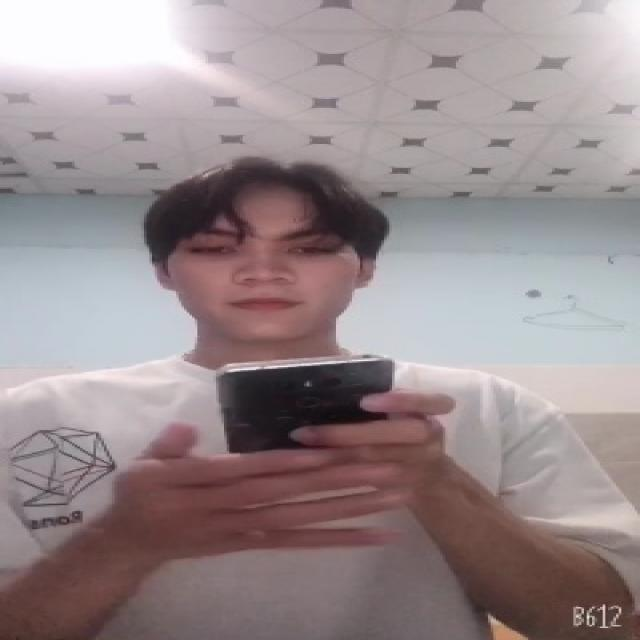Phone: (216, 354, 404, 461)
